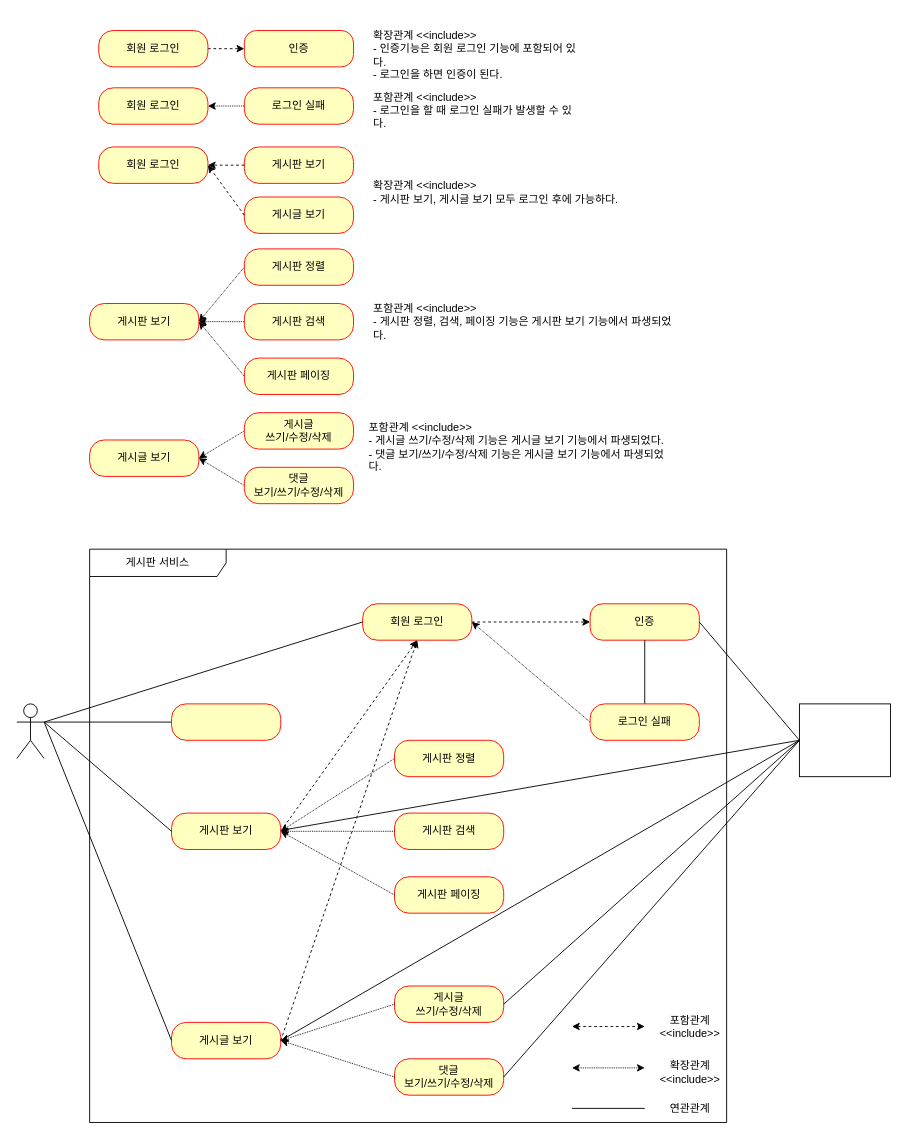
Image size: 906x1138. Some labels were removed from this diagram. The centre of each missing label's shape, as x and y in pixels:
DB: pixel 844 740
이용자: pixel 30 730
회원가입: pixel 226 721
